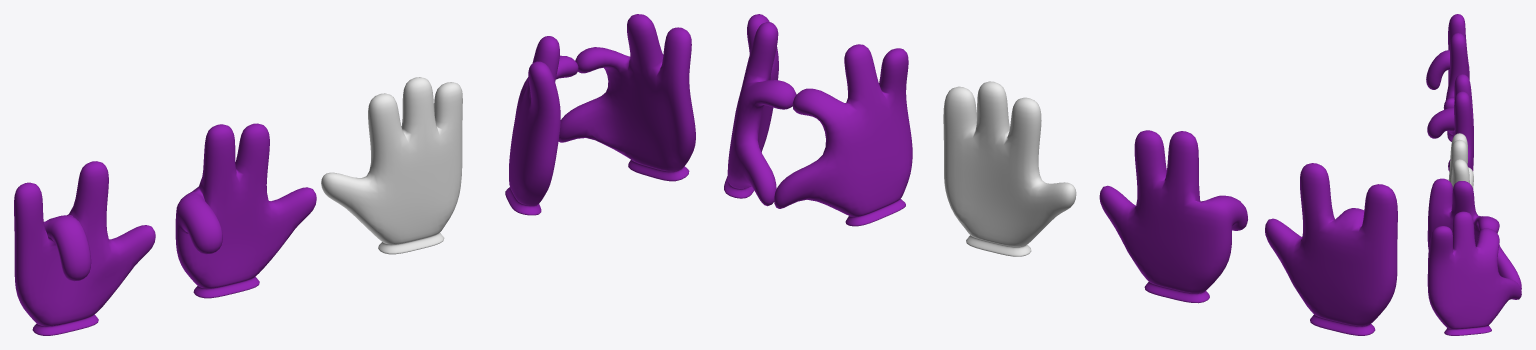
The model's file is uploads_files_3874603_Cartoon+hands.fbx.
3 views of the same model, side by side, from view 1: azimuth 30°, elevation 25°; view 2: azimuth 150°, elevation 25°; view 3: azimuth 270°, elevation 25° (orthographic). The views are drawn at different scales.
Visible parts, largest first — view 1: Plane001, Plane003, Plane004, Plane002, Plane3; view 2: Plane001, Plane3, Plane003, Plane004, Plane002; view 3: Plane002, Plane3, Plane004, Plane003, Plane001.
Part boxes in pixels (x1,y1,x2,y2): Plane001: (321,77,462,254); Plane003: (175,123,316,298); Plane004: (14,161,155,335); Plane002: (558,14,695,181); Plane3: (505,36,578,215); Plane001: (943,81,1076,256); Plane3: (774,44,912,226); Plane003: (1099,130,1247,303); Plane004: (1265,163,1397,335); Plane002: (724,14,796,206); Plane002: (1427,211,1521,335); Plane3: (1427,178,1521,289); Plane004: (1426,14,1469,141); Plane003: (1427,74,1473,171); Plane001: (1448,133,1473,188).
Size of the model in its own units: 708 by 174 by 127.
